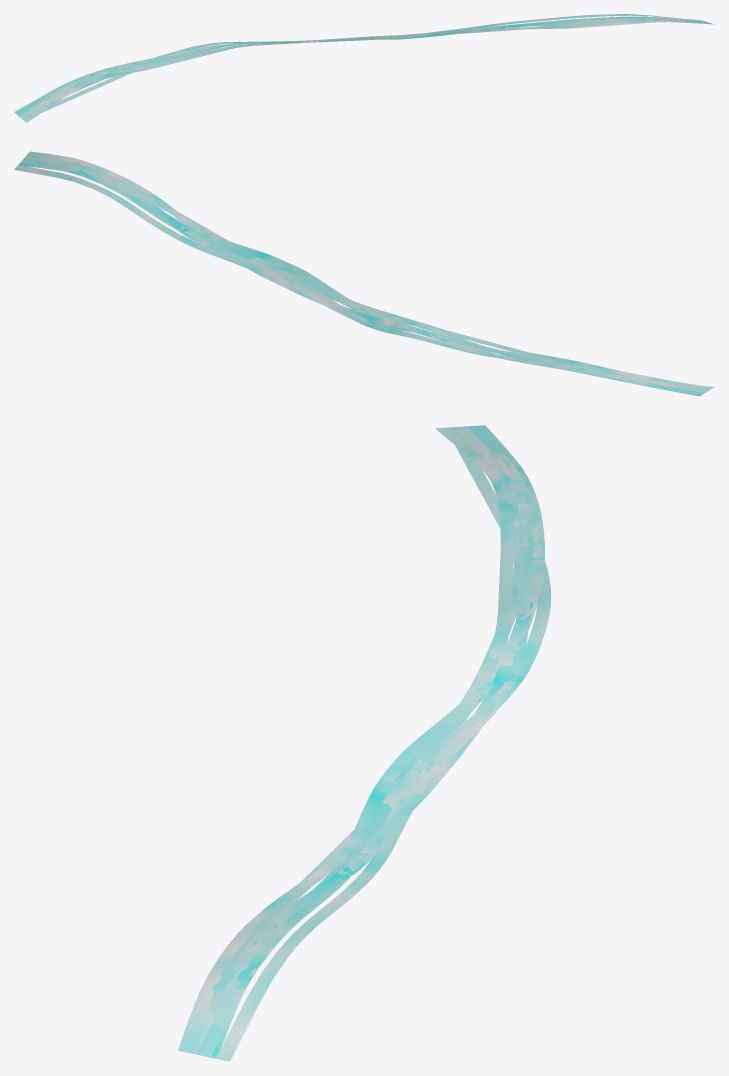
3 views of the same model, one above another, from view 1: azimuth 30°, elevation 25°; view 2: azimuth 150°, elevation 25°; view 3: azimuth 270°, elevation 25° (orthographic). The views are drawn at different scales.
Visible parts, largest first — view 1: SpaceCenter_Long3_GenerateRoad_Sand_TireTracks_Narrow_Mesh_x; view 2: SpaceCenter_Long3_GenerateRoad_Sand_TireTracks_Narrow_Mesh_x; view 3: SpaceCenter_Long3_GenerateRoad_Sand_TireTracks_Narrow_Mesh_x.
Boxes of the visible parts, box(x1,y1,x2,y2) form: SpaceCenter_Long3_GenerateRoad_Sand_TireTracks_Narrow_Mesh_x: box(14, 14, 713, 122); SpaceCenter_Long3_GenerateRoad_Sand_TireTracks_Narrow_Mesh_x: box(14, 151, 714, 396); SpaceCenter_Long3_GenerateRoad_Sand_TireTracks_Narrow_Mesh_x: box(178, 425, 551, 1061).
Size of the model in its own units: 597 by 2304 by 75.84.
